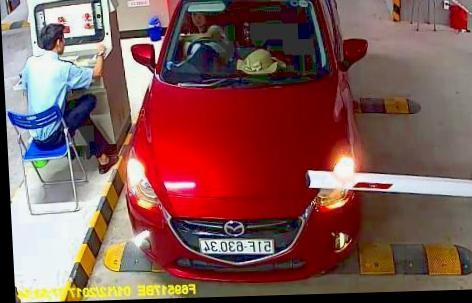License_Plate: (199, 235, 276, 255)
